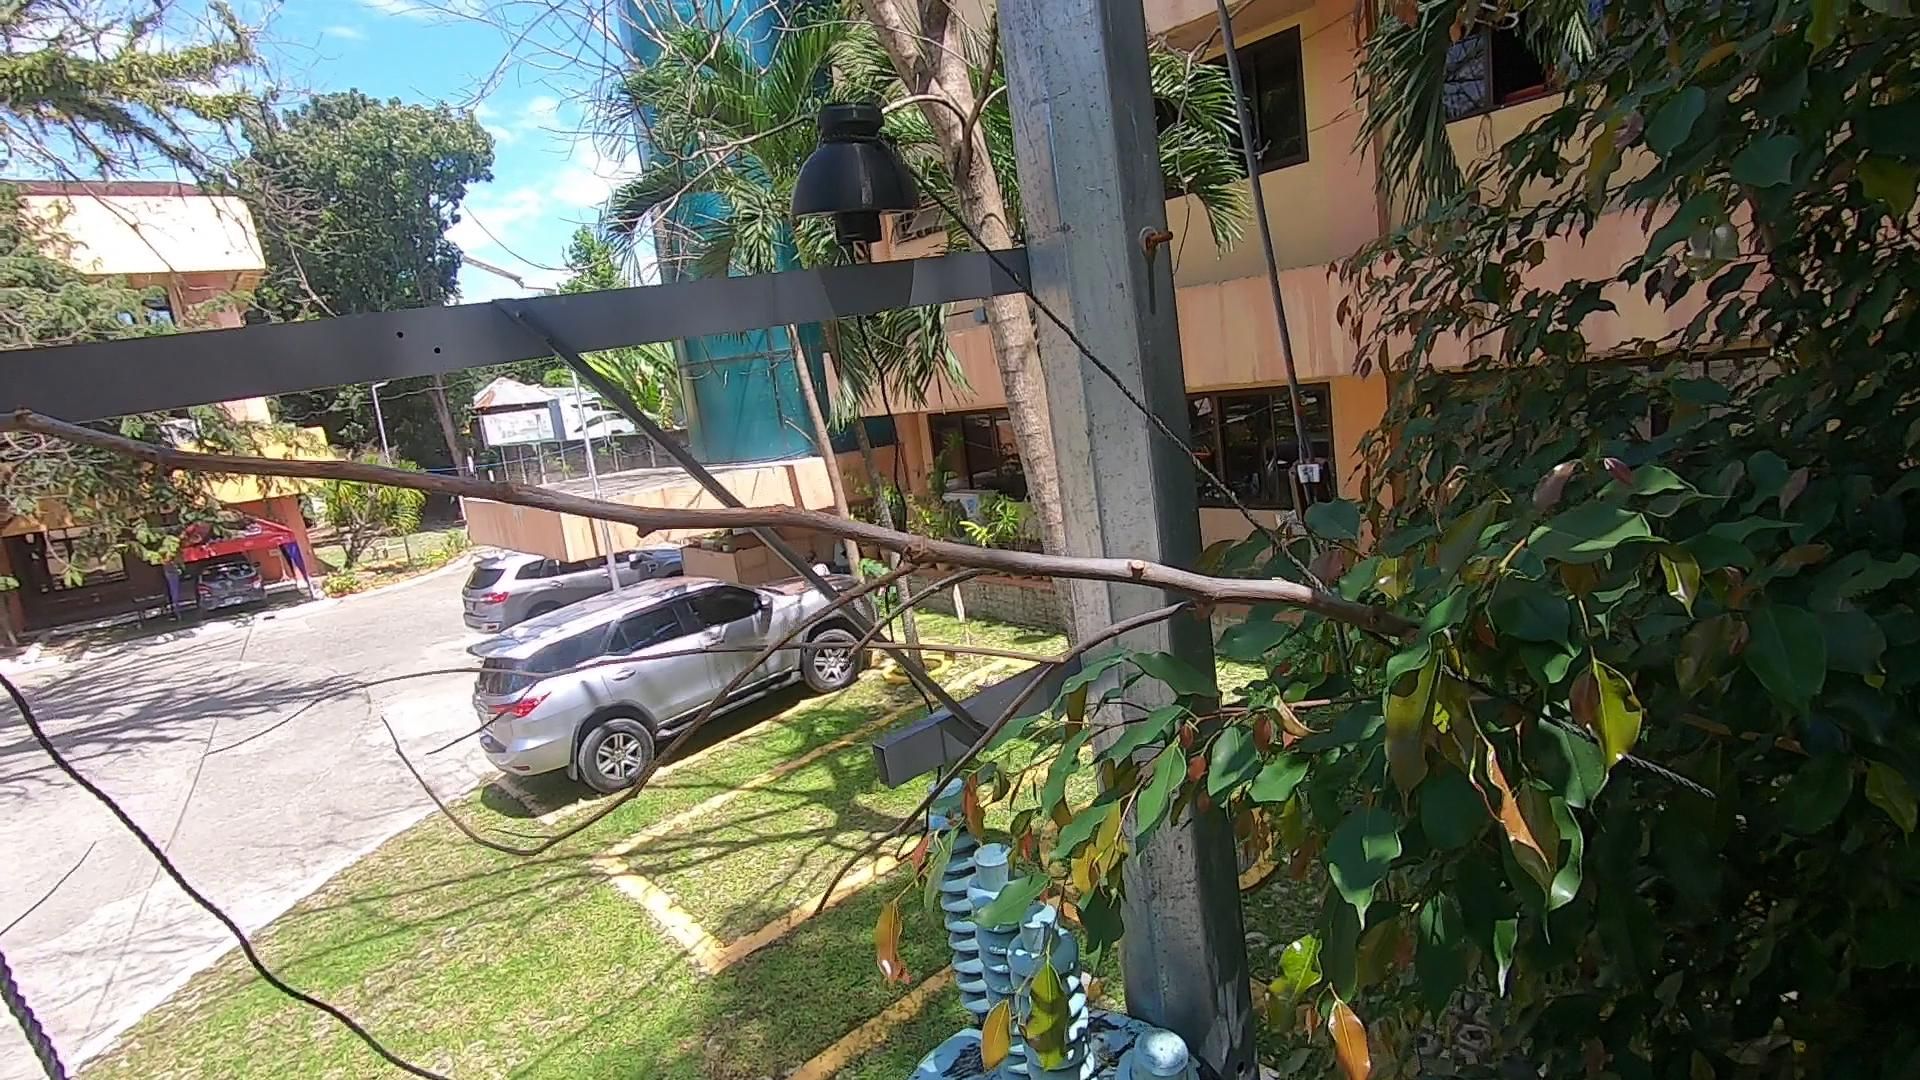tree branch: (1, 310, 1520, 930)
